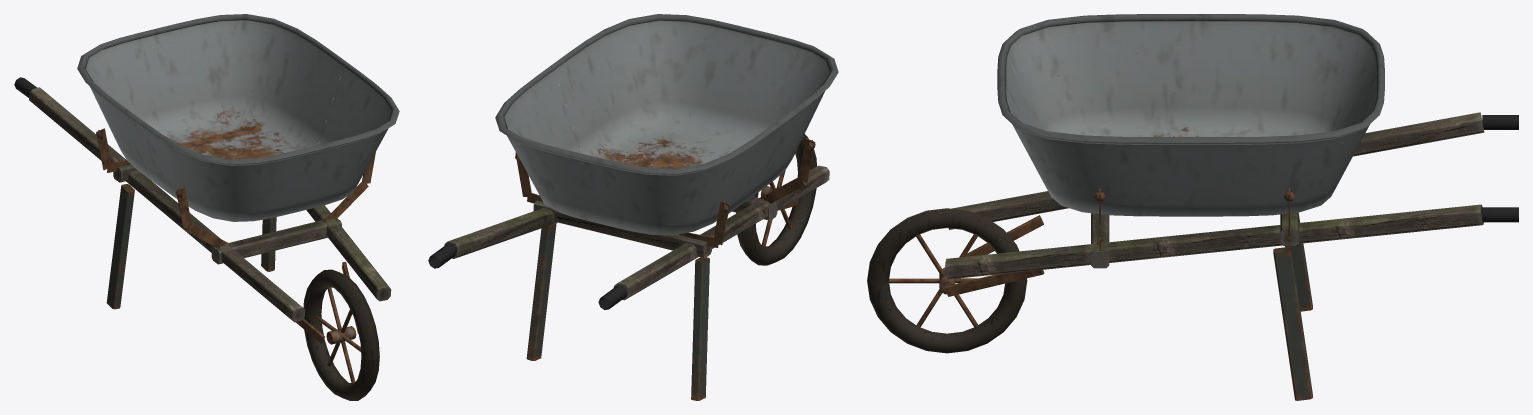
Rendered from wheelbarrow.glb.
3 renders of one model, left to right at view 1: azimuth 30°, elevation 25°; view 2: azimuth 150°, elevation 25°; view 3: azimuth 270°, elevation 25°, orthographic. The views are drawn at different scales.
Visible parts, largest first — view 1: wheelbarrow; view 2: wheelbarrow; view 3: wheelbarrow.
Part boxes in pixels (x1=…): wheelbarrow: x1=14, y1=14, x2=399, y2=400; wheelbarrow: x1=428, y1=14, x2=838, y2=400; wheelbarrow: x1=867, y1=14, x2=1518, y2=400.
Size of the model in its own units: 0.824 by 0.8458 by 1.79.
Materials: 1 (1 with a texture image).
